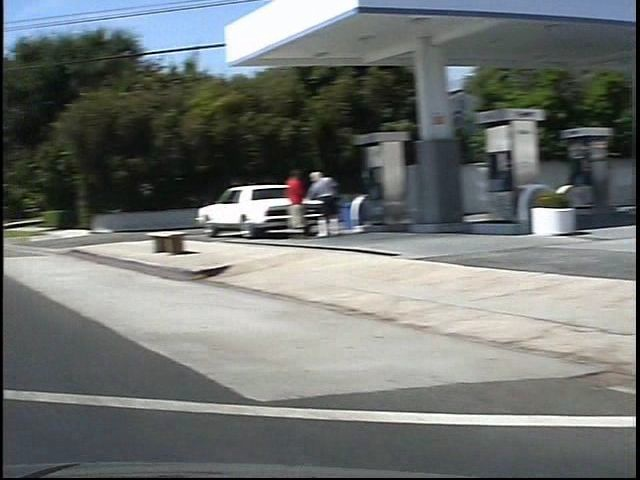person: (285, 168, 325, 243), (261, 166, 290, 243)
